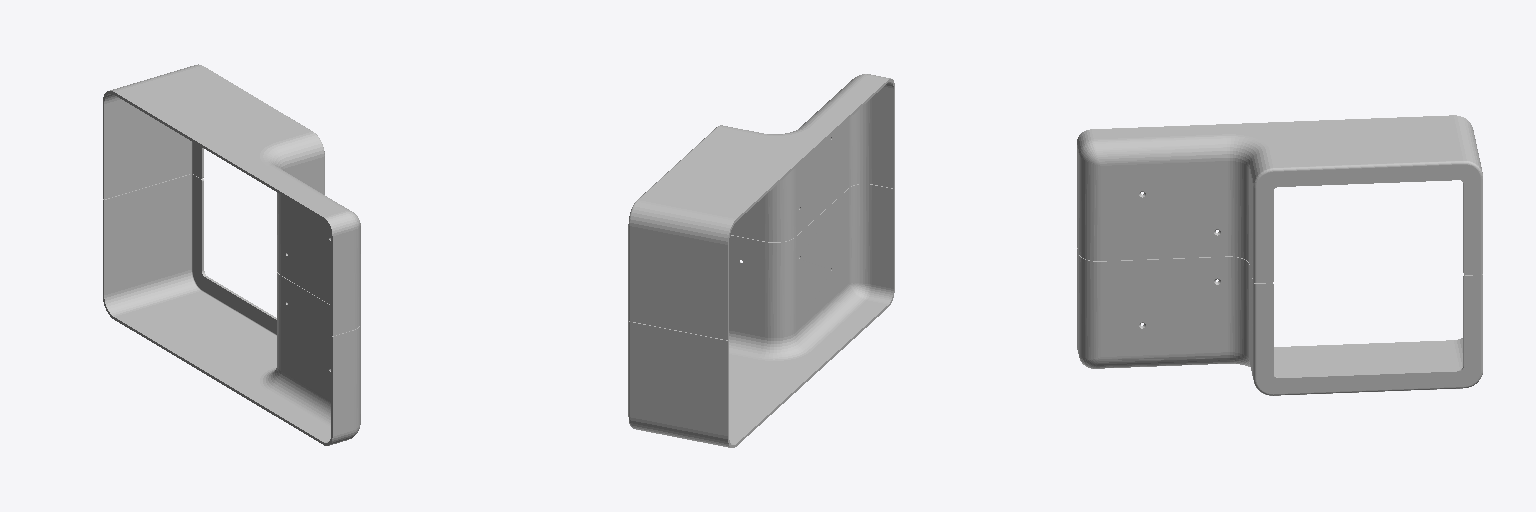
Rendered from torso_fix.obj.
3 views of the same model, side by side, from view 1: azimuth 30°, elevation 25°; view 2: azimuth 150°, elevation 25°; view 3: azimuth 270°, elevation 25° (orthographic).
Parts seen in each view (by area): view 1: torso_fix; view 2: torso_fix; view 3: torso_fix.
Boxes of the visible parts, <box> form: torso_fix: <box>103,64,360,445</box>; torso_fix: <box>628,74,894,447</box>; torso_fix: <box>1077,115,1482,395</box>.
Size of the model in its own units: 0.1302 by 0.25 by 0.4051.